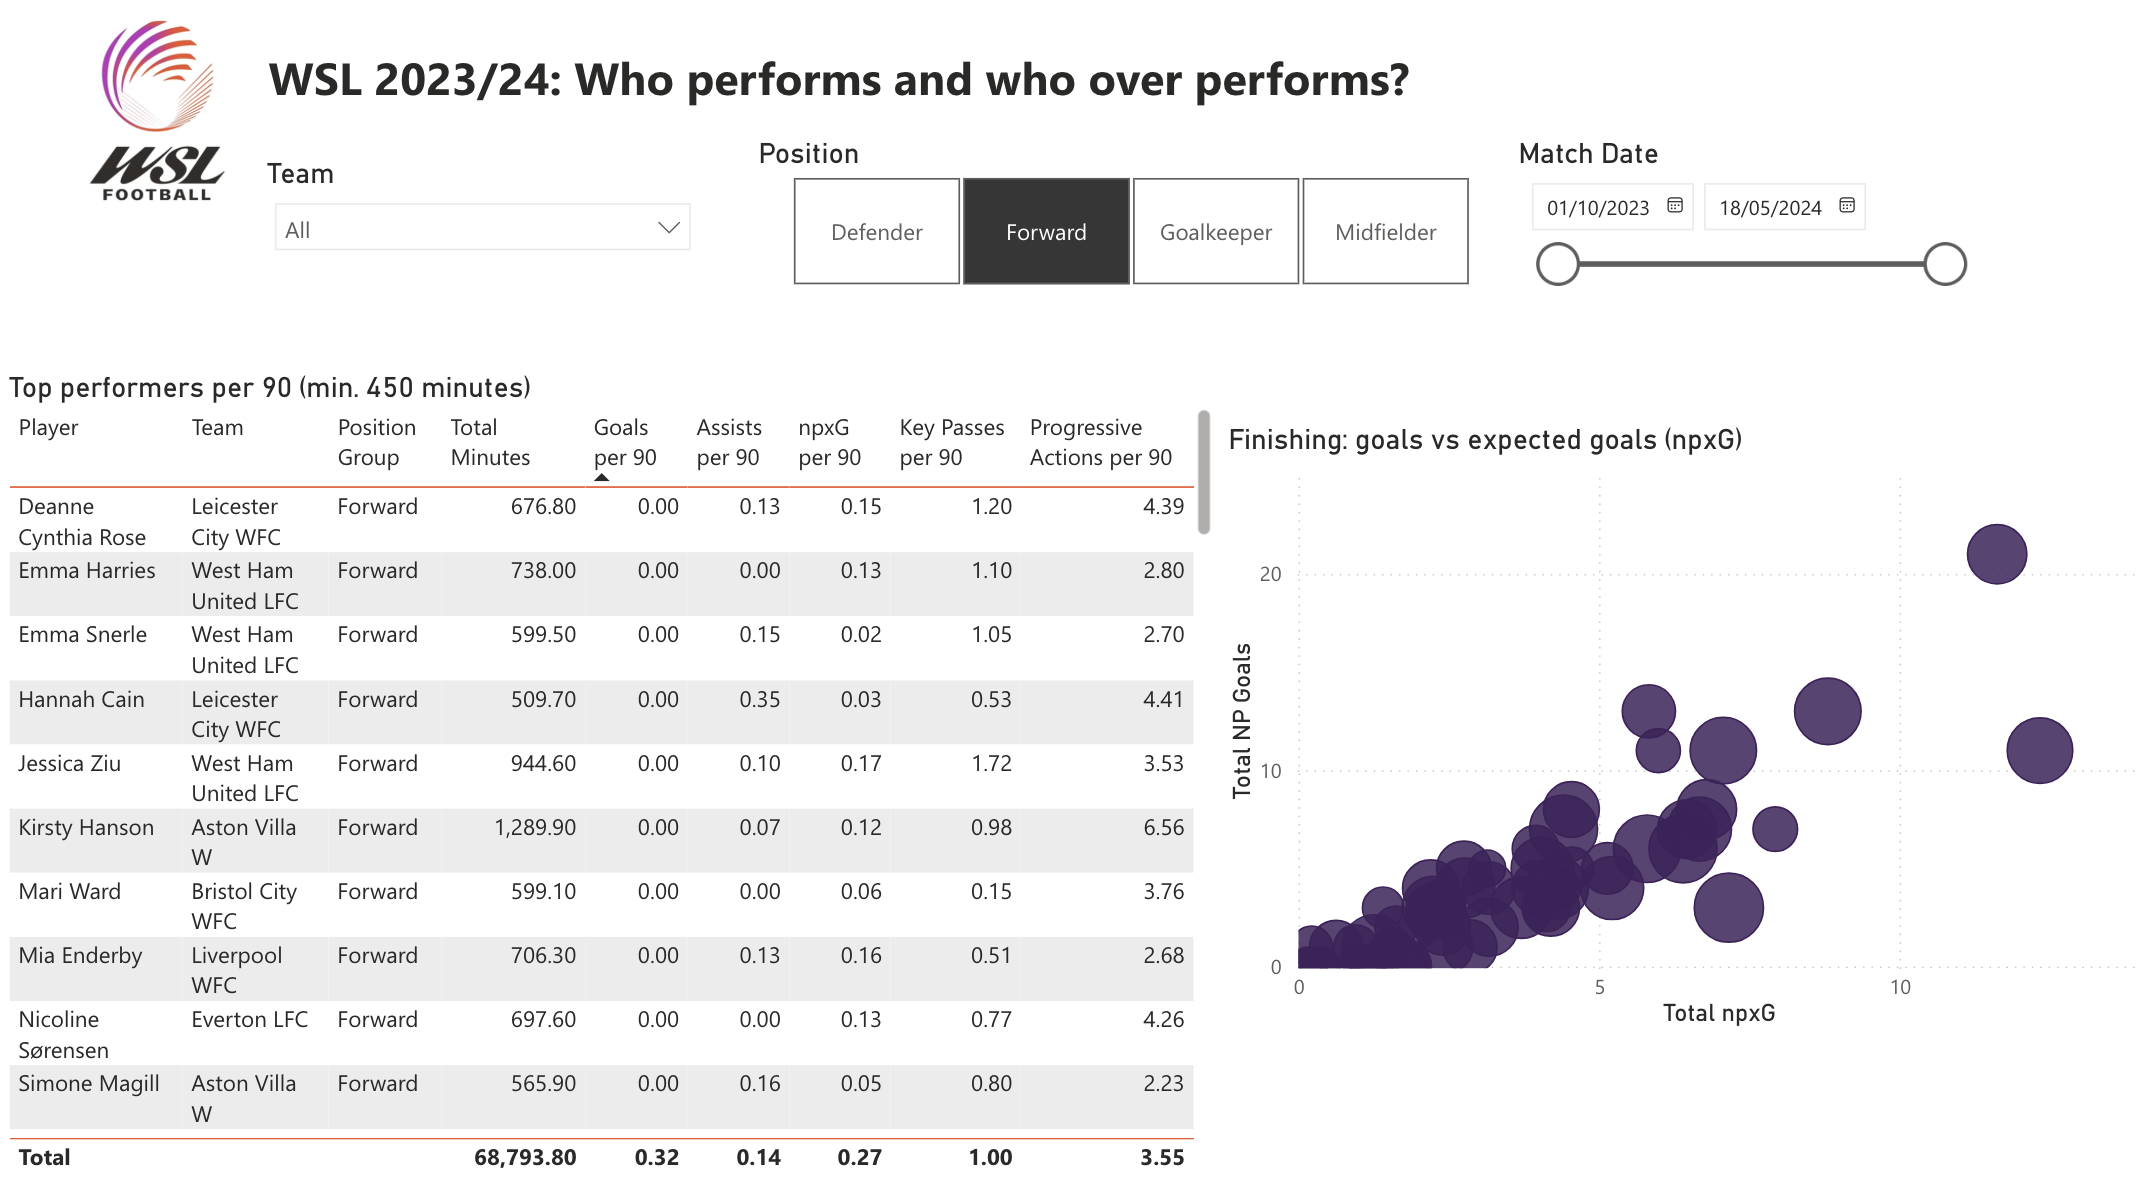

The dashboard page shown, as its layout file describes it:
{"tool":"powerbi","page":{"name":"League Overview","canvas":[1280,720],"ordinal":1},"visuals":[{"type":"slicer","title":"Team","fields":{"Values":["dim_team.team_name"]},"box":[153.4,100.6,266.3,70],"z":0},{"type":"slicer","title":"Position","fields":{"Values":["dim_player.position_group"]},"box":[444.3,88.4,450,92.5],"z":1000},{"type":"slicer","title":"Match Date","fields":{"Values":["dim_date.date"]},"box":[894.7,88.4,279,92.5],"z":2000},{"type":"tableEx","title":"Top performers per 90 (min. 450 minutes)","fields":{"Values":["dim_player.player","dim_team.team_name","dim_player.position_group","metrics.Total Minutes","metrics.Goals per 90","metrics.Assists per 90","metrics.npxG per 90","metrics.Key Passes per 90","metrics.Progressive Actions per 90"]},"box":[0,227,722.8,478.6],"z":3000},{"type":"scatterChart","title":"Finishing: goals vs expected goals (npxG)","fields":{"Category":["dim_player.player"],"Size":["metrics.Total Minutes"],"X":["metrics.Total npxG"],"Y":["metrics.Total NP Goals"]},"box":[722.6,258.4,557.2,360.8],"z":4000},{"type":"image","box":[52,8.8,83.5,125.2],"z":5000},{"type":"textbox","box":[153.5,28.8,724.1,60.1],"z":6000}]}

Visuals, with their boxes in screenshot pixels (x1, y1, x2, y2), scaled from the page's 1280x720 canvas onto the 2150x1180 screenshot:
"Team" slicer: <box>258,165,705,280</box>
"Position" slicer: <box>746,145,1502,296</box>
"Match Date" slicer: <box>1503,145,1971,296</box>
"Top performers per 90 (min. 450 minutes)" tableEx: <box>0,372,1214,1156</box>
"Finishing: goals vs expected goals (npxG)" scatterChart: <box>1214,423,2149,1015</box>
image: <box>87,14,228,220</box>
textbox: <box>258,47,1474,146</box>
